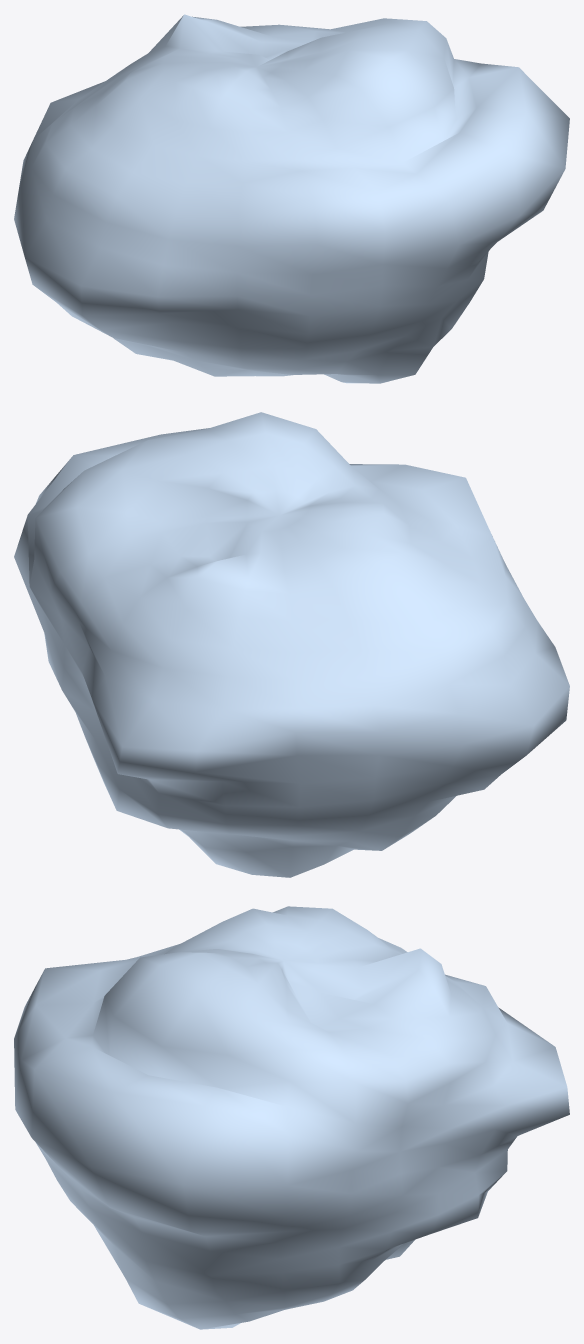
File: lAsteroid3.obj
3 renders of one model, top to bottom at view 1: azimuth 30°, elevation 25°; view 2: azimuth 150°, elevation 25°; view 3: azimuth 270°, elevation 25°, orthographic. The views are drawn at different scales.
Visible parts, largest first — view 1: sphere9; view 2: sphere9; view 3: sphere9.
Part boxes in pixels (x1=…): sphere9: x1=14, y1=14, x2=569, y2=383; sphere9: x1=14, y1=412, x2=569, y2=877; sphere9: x1=14, y1=906, x2=569, y2=1329.
Bounding box in the file's own units: 36.33 × 24.24 × 33.16.
